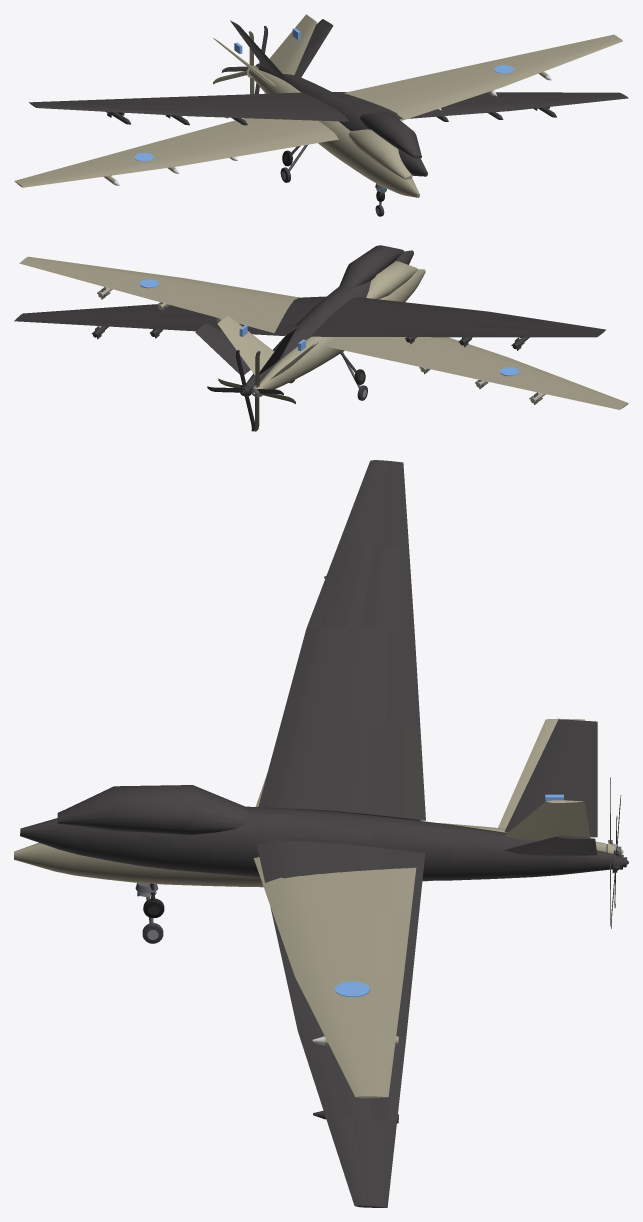
File: drone__mq_9b_protector.glb
3 views of the same model, one above another, from view 1: azimuth 30°, elevation 25°; view 2: azimuth 150°, elevation 25°; view 3: azimuth 270°, elevation 25° (orthographic). The views are drawn at different scales.
Visible parts, largest first — view 1: Fuselage_Mesh, Wreck, Propeller_Mesh; view 2: Fuselage_Mesh, Wreck, Propeller_Mesh; view 3: Wreck, Fuselage_Mesh.
Boxes of the visible parts, x1,y1,x2,y2 form: Fuselage_Mesh: (14, 14, 622, 216); Wreck: (29, 19, 628, 201); Propeller_Mesh: (213, 31, 259, 94); Fuselage_Mesh: (19, 256, 628, 409); Wreck: (14, 245, 605, 431); Propeller_Mesh: (218, 351, 295, 431); Wreck: (20, 460, 628, 1207); Fuselage_Mesh: (14, 718, 605, 1098).
Size of what is drawn, in the model's own units: 24.22 by 5.07 by 11.91.
